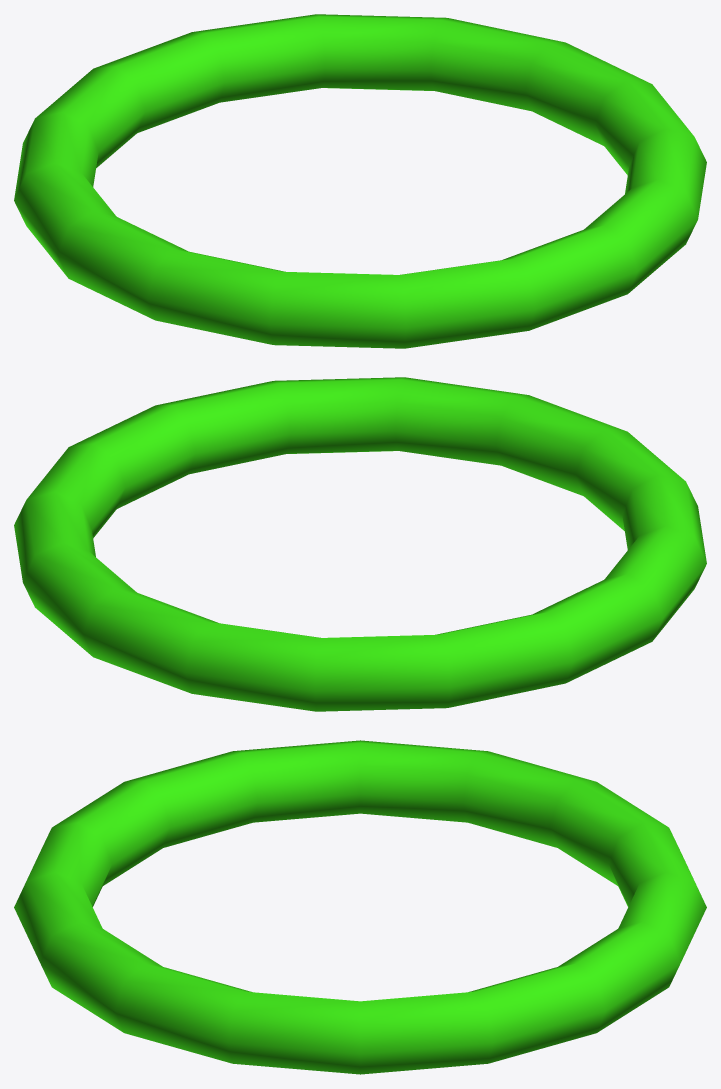
The model's file is ScanRing.fbx.
The picture shows the model from 3 angles, top to bottom: view 1: azimuth 30°, elevation 25°; view 2: azimuth 150°, elevation 25°; view 3: azimuth 270°, elevation 25°; orthographic projection.
Visible parts, largest first — view 1: Torus; view 2: Torus; view 3: Torus.
Part boxes in pixels (x1,y1,x2,y2): Torus: (14, 14, 706, 348); Torus: (14, 377, 706, 711); Torus: (14, 740, 706, 1074).
Bounding box in the file's own units: 230 × 25.83 × 230.
